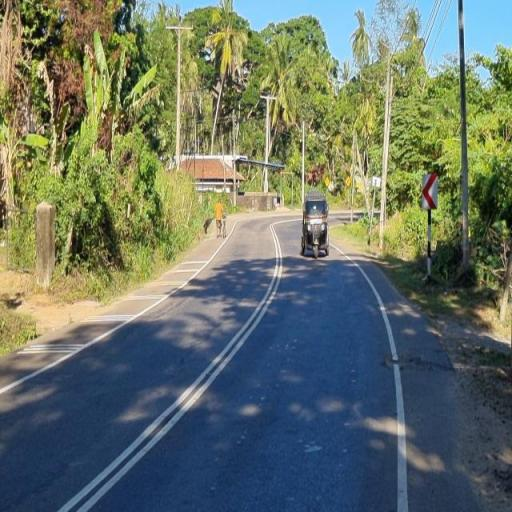double_white_line: (53, 221, 286, 512)
